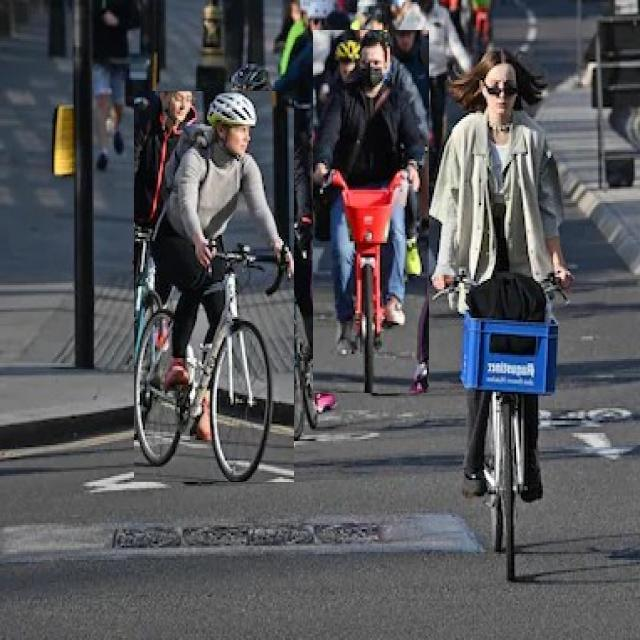bicycle: (430, 49, 573, 579), (134, 92, 294, 482), (313, 30, 429, 393)
